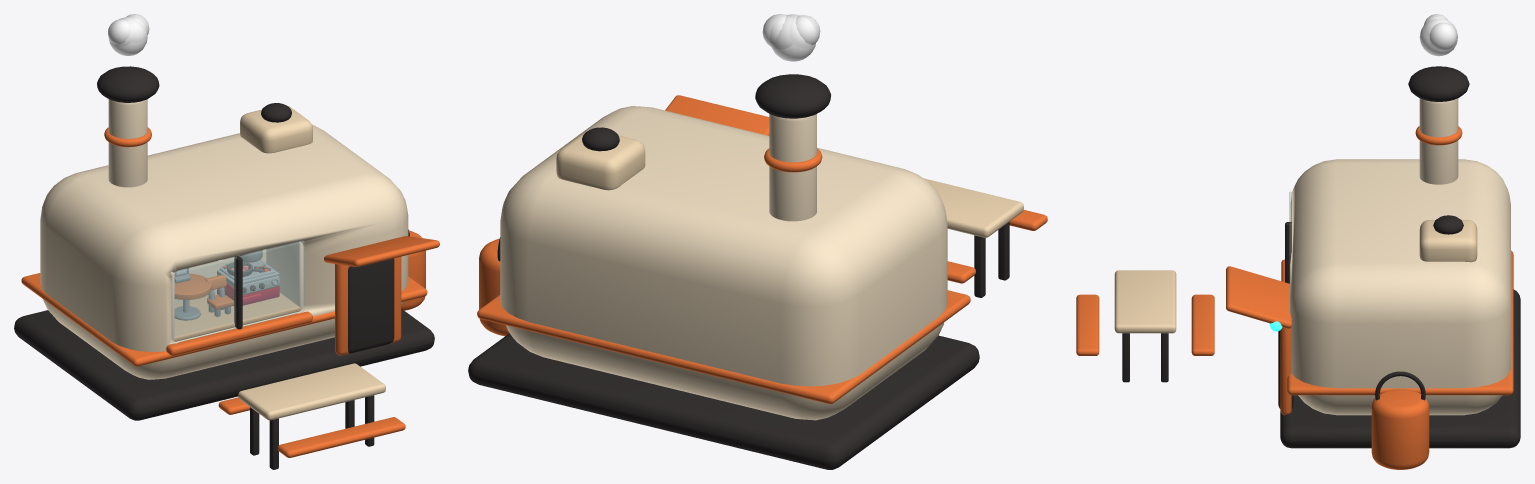
Rendered from kitchen.glb.
3 views of the same model, side by side, from view 1: azimuth 30°, elevation 25°; view 2: azimuth 150°, elevation 25°; view 3: azimuth 270°, elevation 25° (orthographic). The views are drawn at different scales.
Visible parts, largest first — view 1: Cube.001, Cube, Cube.006, Cube.014, Cube.011, Cylinder, Cube.009, Cube.003, Cube.013, stove_multi_decorated, Cube.015, Cube.012 (+15 smaller); view 2: Cube.001, Cube, Cube.009, Cylinder, Cube.013, Cube.014, Sphere.002, Cube.012, Cylinder.001, Sphere.003, Sphere.006, Cube.019 (+2 smaller); view 3: Cube.001, Cube, Cylinder.001, Cube.014, Cylinder, Cube.012, Cube.009, Cube.013, Sphere.002, Cube.018, Cube.015, Cube.010 (+3 smaller).
Part boxes in pixels (x1,y1,x2,y2): Cube.001: (40, 124, 408, 379); Cube: (14, 309, 434, 420); Cube.006: (171, 241, 304, 343); Cube.014: (238, 363, 385, 420); Cube.011: (348, 258, 394, 353); Cylinder: (108, 99, 147, 187); Cube.009: (21, 273, 427, 366); Cube.003: (173, 293, 301, 341); Cube.013: (240, 104, 312, 153); stove_multi_decorated: (217, 250, 280, 305); Cube.015: (277, 417, 405, 457); Cube.012: (324, 236, 439, 266); Cube.001: (500, 106, 947, 420); Cube: (468, 333, 979, 469); Cube.009: (477, 290, 970, 404); Cylinder: (769, 114, 816, 221); Cube.013: (556, 130, 645, 190); Cube.014: (924, 178, 1023, 237); Sphere.002: (755, 74, 830, 118); Cube.012: (665, 95, 769, 135); Cylinder.001: (479, 238, 509, 336); Sphere.003: (771, 14, 815, 61); Sphere.006: (582, 127, 619, 151); Cube.019: (974, 235, 985, 297); Cube.001: (1290, 159, 1510, 415); Cube: (1280, 289, 1520, 448); Cylinder.001: (1371, 389, 1429, 469); Cube.014: (1114, 270, 1176, 333); Cylinder: (1419, 98, 1458, 184); Cube.012: (1226, 266, 1292, 328); Cube.009: (1287, 250, 1513, 395); Cube.013: (1419, 220, 1477, 262); Sphere.002: (1408, 66, 1469, 101); Cube.018: (1191, 294, 1214, 355); Cube.015: (1076, 294, 1099, 355); Cube.010: (1280, 327, 1291, 415).
Bounding box in the file's own units: 2.06 × 1.86 × 2.31.
11 materials, 1 textured.
